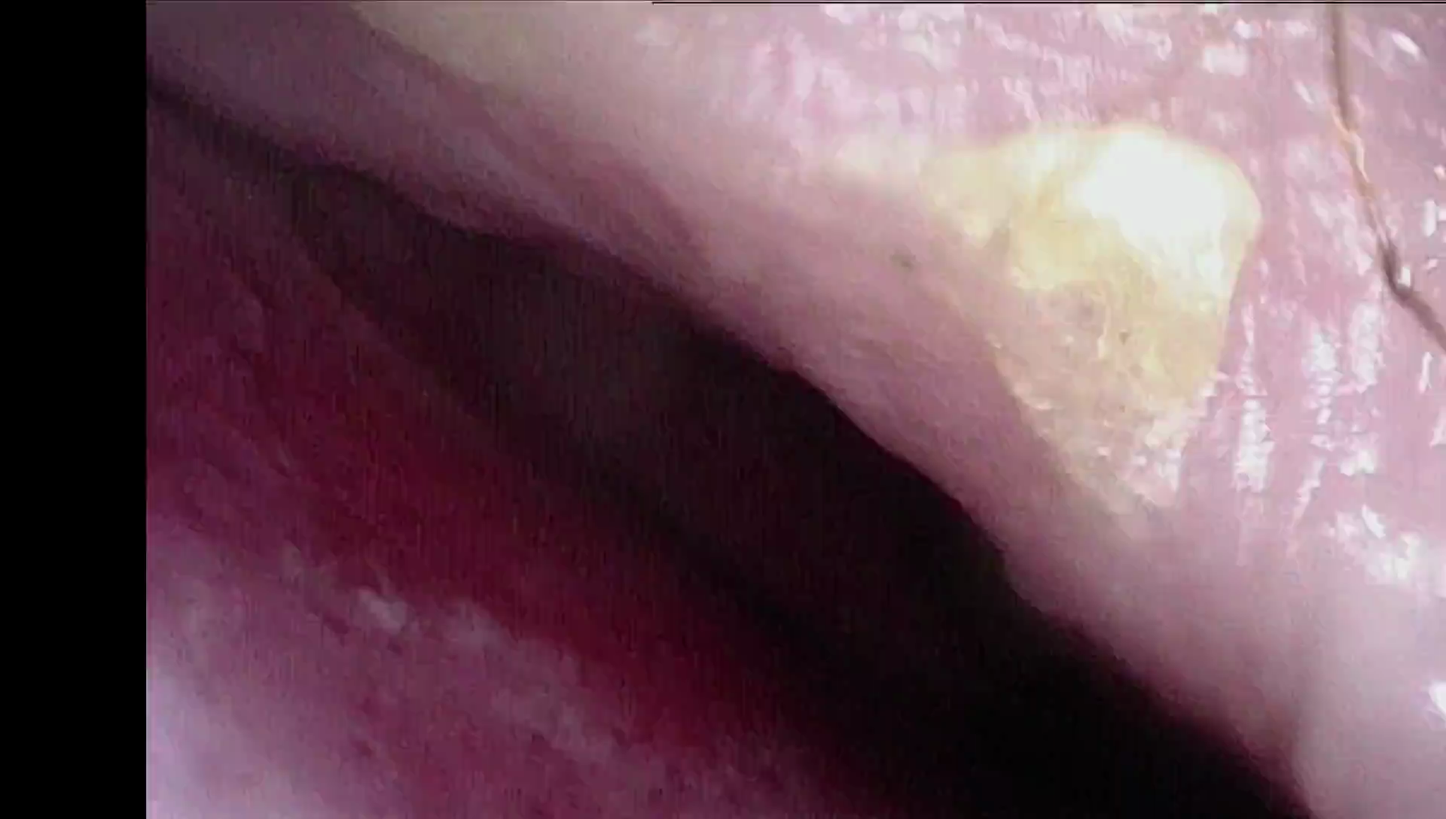close_wall: (387, 5, 1446, 611), (151, 543, 475, 819)
next: (343, 172, 780, 546), (763, 522, 1312, 819), (560, 311, 990, 678)
